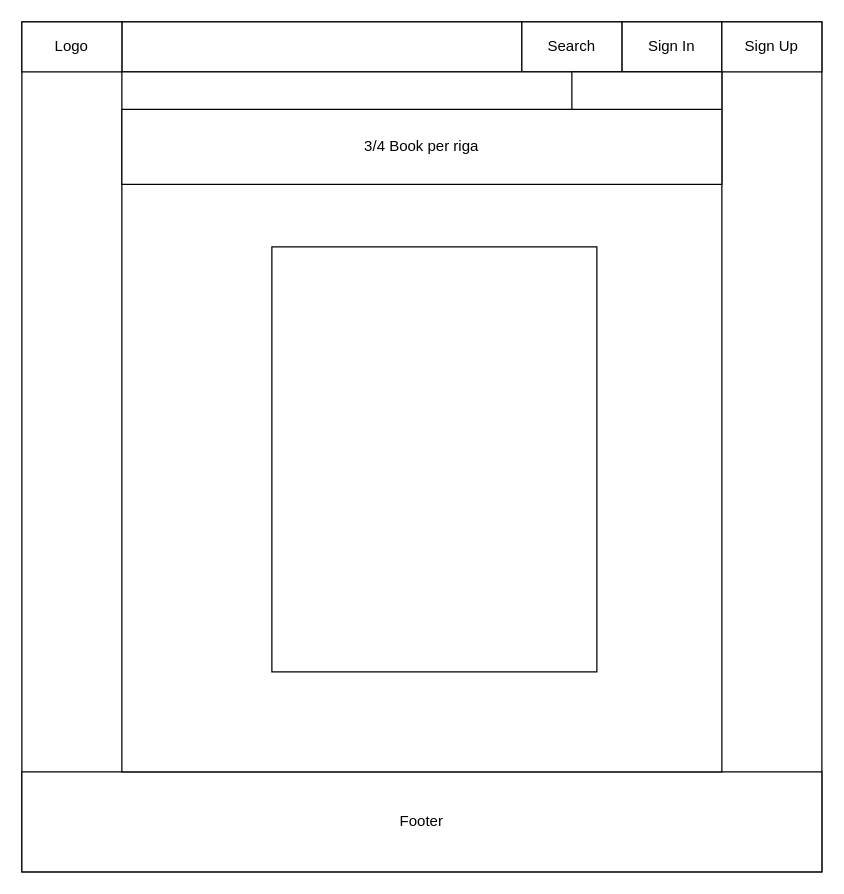
The diagram is 844 pixels wide and 894 high, and some of its shapes have lost their labels. Here are the shapes that lost their labels. From the top down, the box of each, then its label:
(121, 21, 522, 72): Menu
(571, 71, 722, 109): Filtra
(271, 246, 597, 672): Modal filtro
